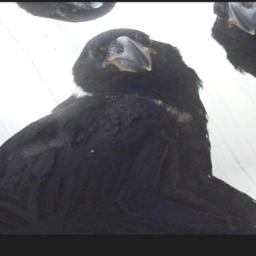Crow: (0, 12, 256, 234)
